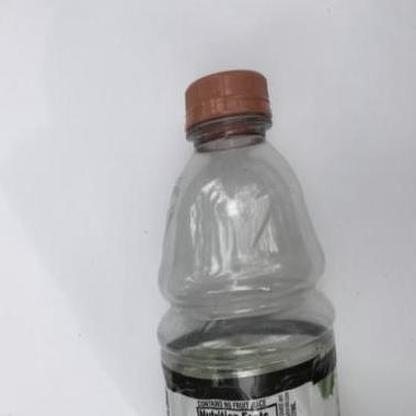plastic bottle: (157, 70, 341, 416)
